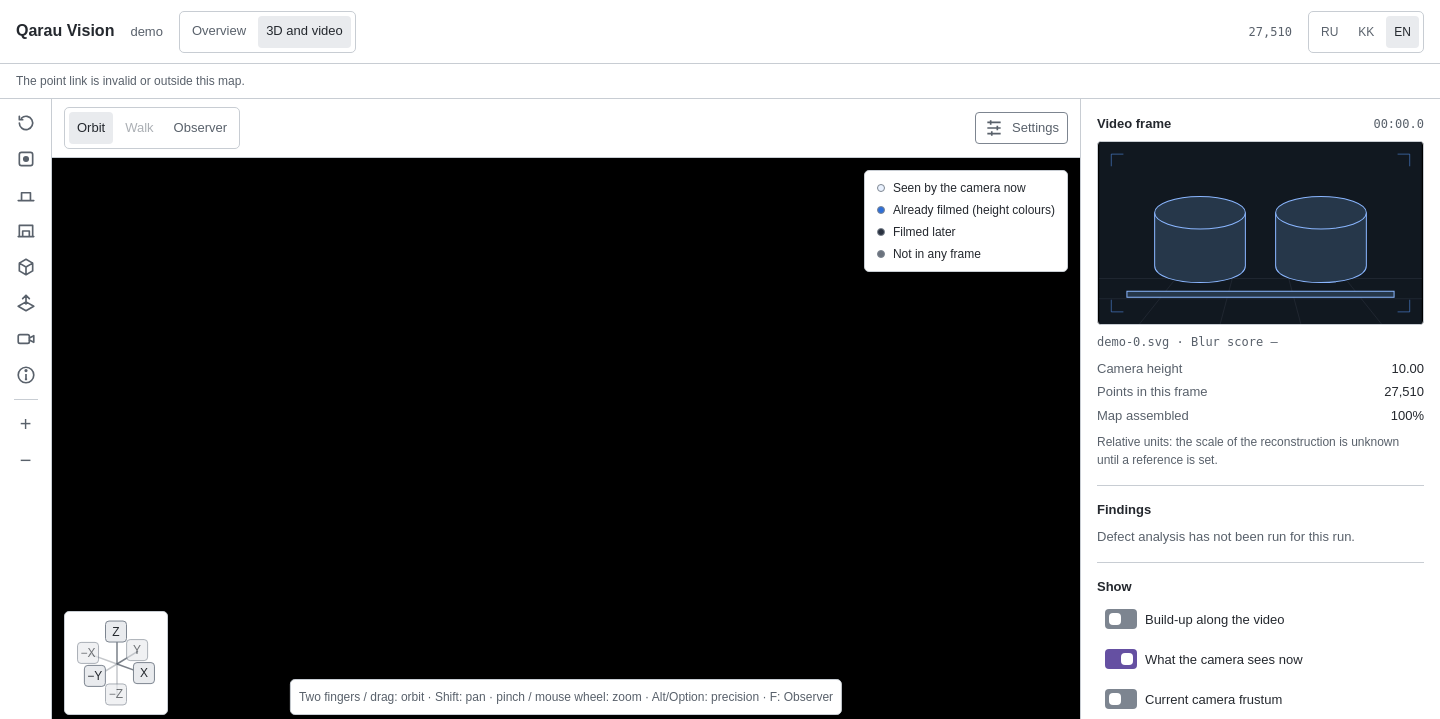
Test case: localizes the point tool and invalid-link notice in en
The width and height of the screenshot is (1440, 719).
Expected: the text "The point link is invalid or outside this map." is shown, x1=0 y1=64 x2=1439 y2=99
Click the button named "Point info: click a point".
click(26, 375)  # box x1=10 y1=359 x2=42 y2=391
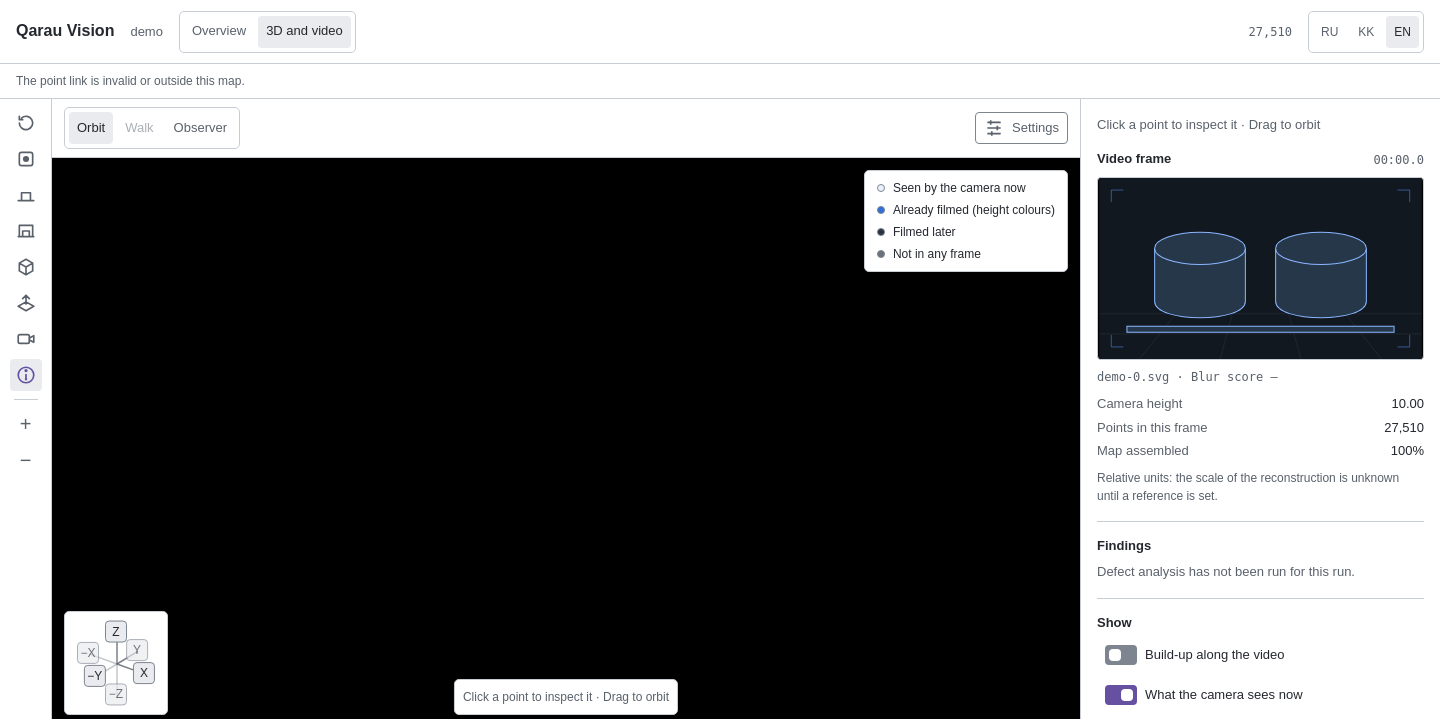
Now the message reads "Click a point to inspect it · Drag to orbit", box x1=463 y1=690 x2=669 y2=704
